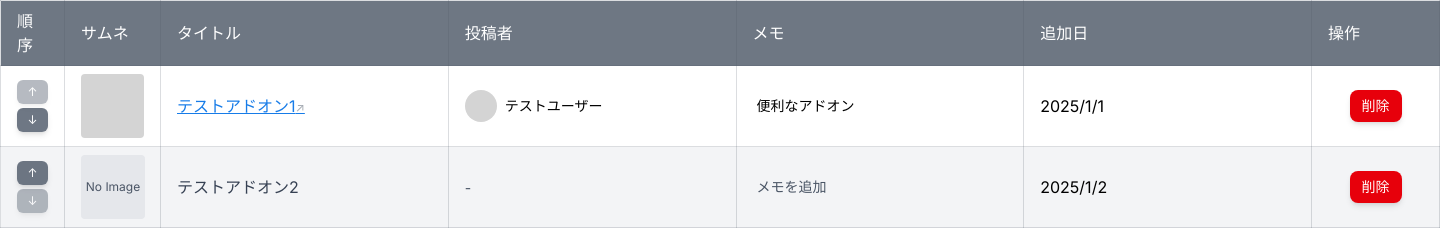
Test case: MyListItemsTable コンポーネント › メモ編集モードに切り替わる
This screenshot has width=1440, height=252.
Click the text "便利なアドオン".
click(806, 106)  # box [756,97,854,114]
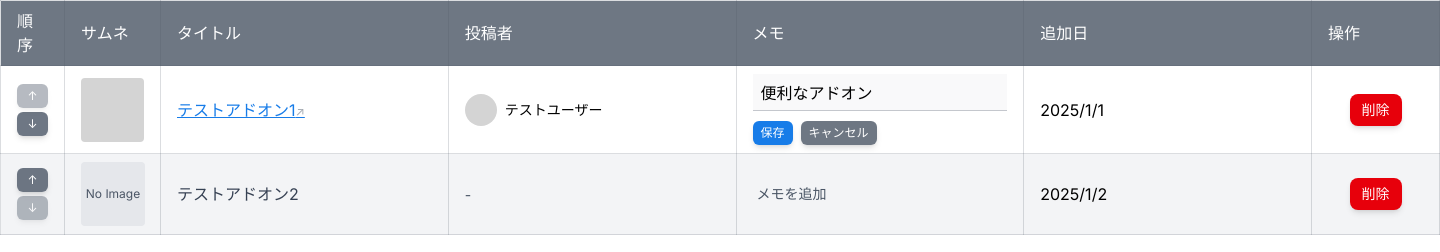
Expected: the field showing "便利なアドオン" is shown, [752,74,1007,111]
